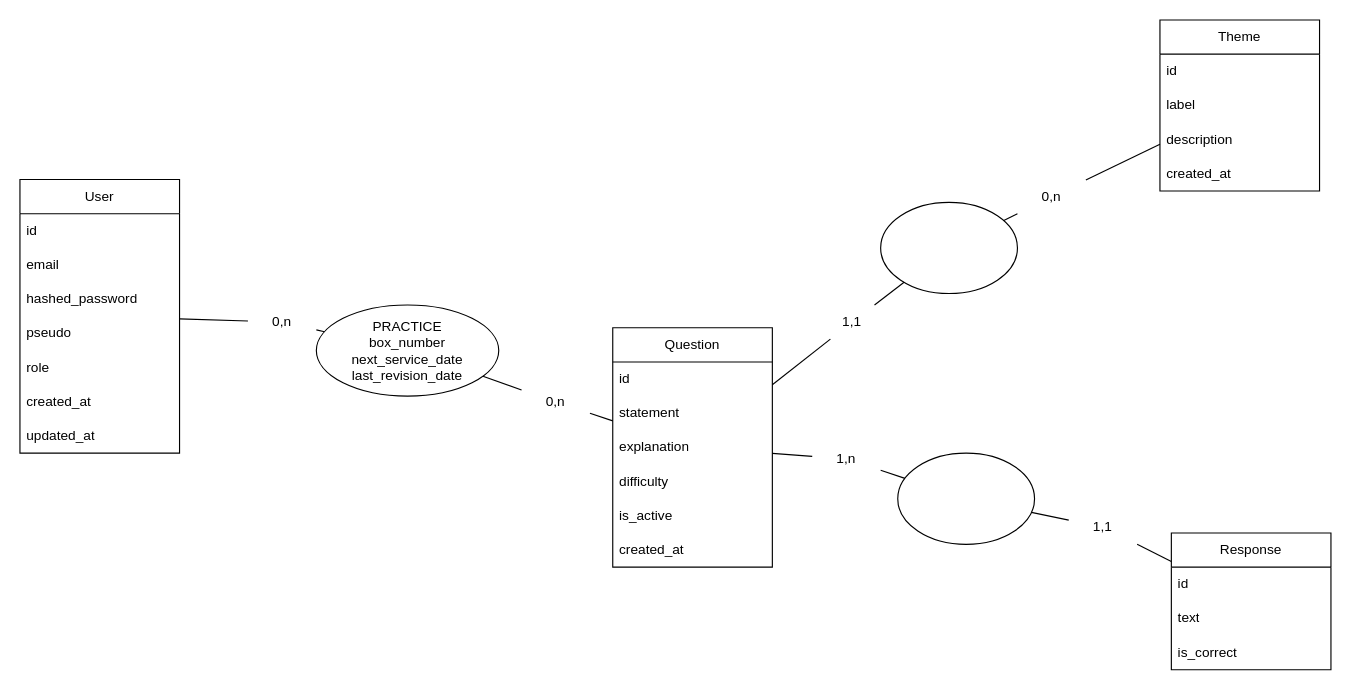
Image size: 1351x690. Some labels were removed from this diagram. Here are the shapes that lost their labels. From the top down, the centre of each, then its label:
At (948,247): "BELONG".
At (966,498): "PROPOSE".
